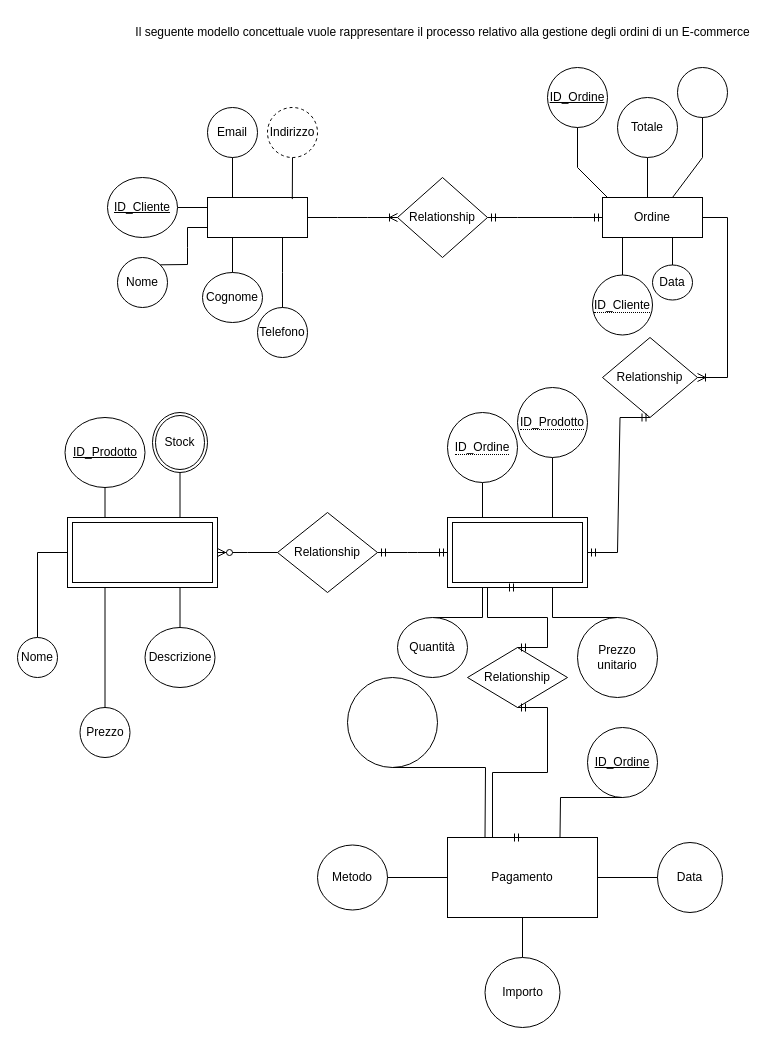
Image size: 780x1045. Some labels were removed from this diagram. Here are the shapes that lost their labels. From the top down, the box of each, then its label:
(676, 66, 728, 118): Stato
(206, 196, 308, 238): Cliente
(66, 516, 218, 588): Prodotto
(446, 516, 588, 588): Dettaglio ordine
(346, 676, 438, 768): ID_Pagamento
